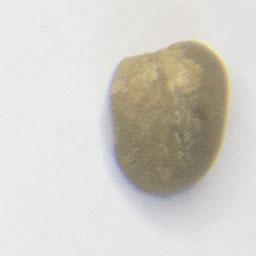defect: (104, 37, 233, 200)
